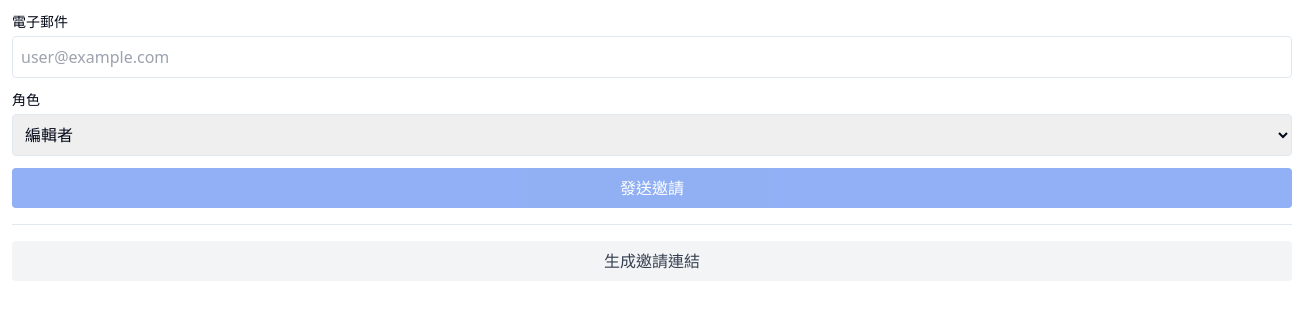
Test case: MemberInvite › shows error message on API failure
Type "test@example.com" into the field with placeholder "user@example.com" at [652, 57], box left=12, top=36, right=1292, bottom=78
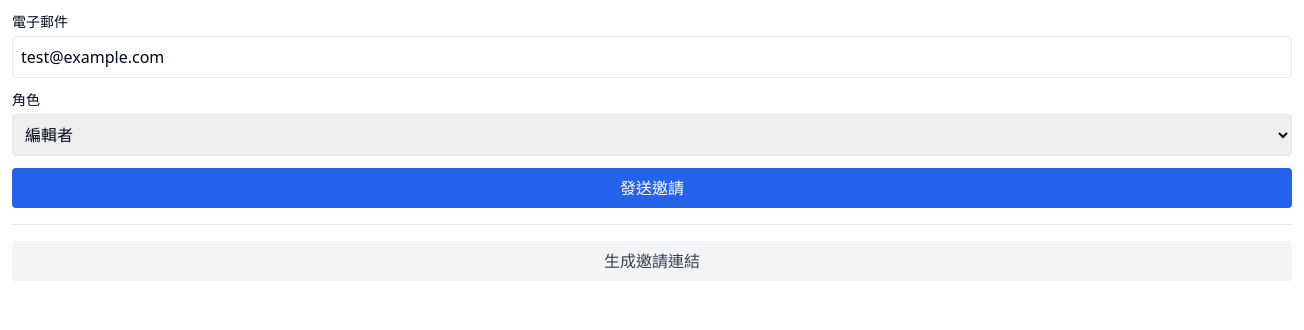
Click the button "發送邀請" at [652, 188], box left=12, top=168, right=1292, bottom=208
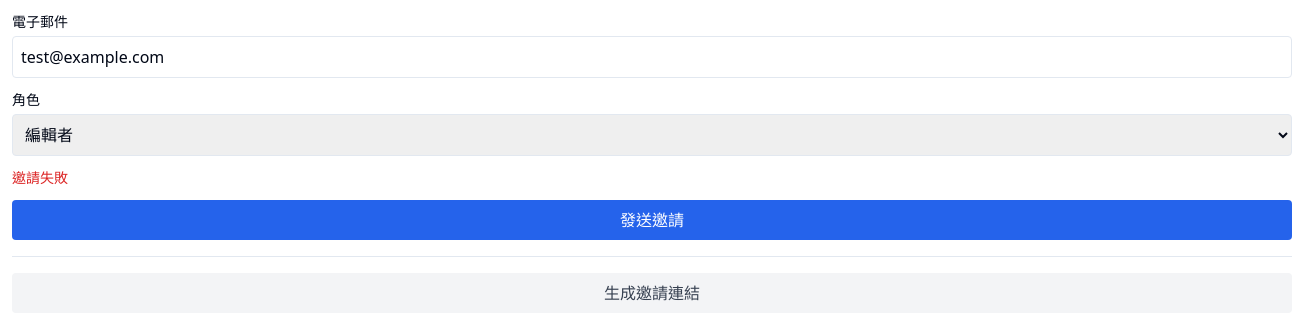
Now the text "邀請失敗" is shown, box left=12, top=168, right=68, bottom=187
